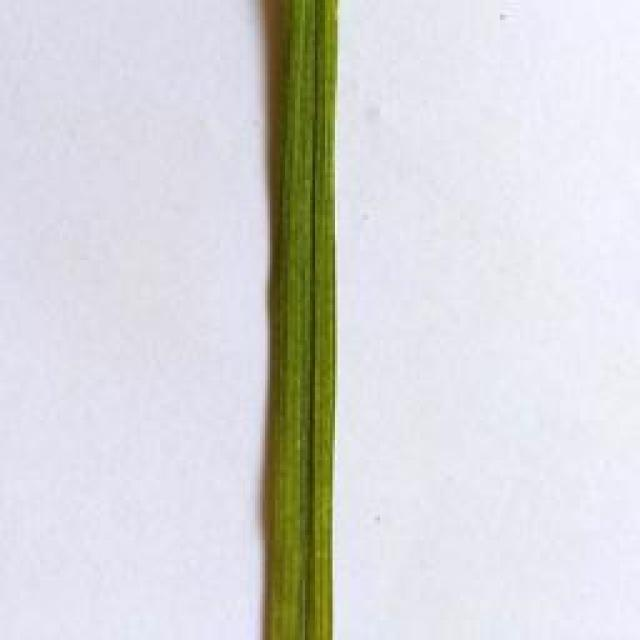Healthy-Plant: (260, 0, 342, 640)
